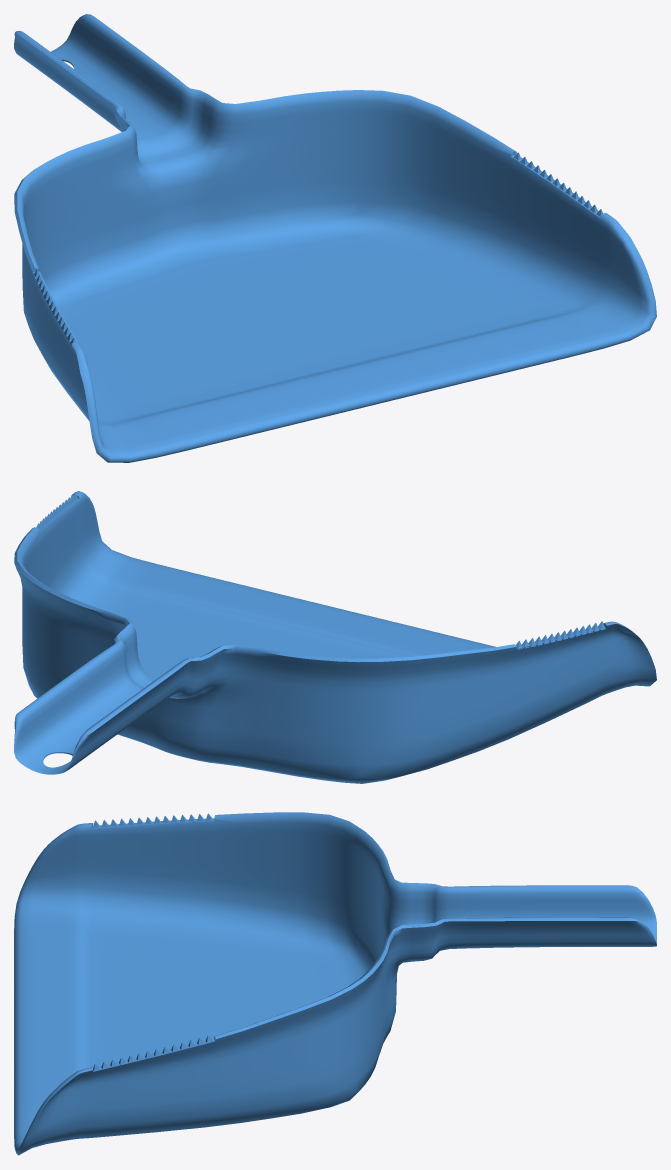
The model's file is dustpan.glb.
3 views of the same model, one above another, from view 1: azimuth 30°, elevation 25°; view 2: azimuth 150°, elevation 25°; view 3: azimuth 270°, elevation 25° (orthographic). The views are drawn at different scales.
Visible parts, largest first — view 1: Plane.001_Material.001_0, Plane.003; view 2: Plane.001_Material.001_0, Plane.003; view 3: Plane.001_Material.001_0, Plane.003.
Boxes of the visible parts, box(x1,y1,x2,y2) form: Plane.001_Material.001_0: box(14, 14, 656, 462); Plane.003: box(33, 152, 603, 346); Plane.001_Material.001_0: box(14, 491, 656, 783); Plane.003: box(36, 493, 605, 649); Plane.001_Material.001_0: box(14, 812, 656, 1155); Plane.003: box(92, 813, 212, 1070).
Bounding box in the file's own units: 0.2268 × 0.0548 × 0.237.
